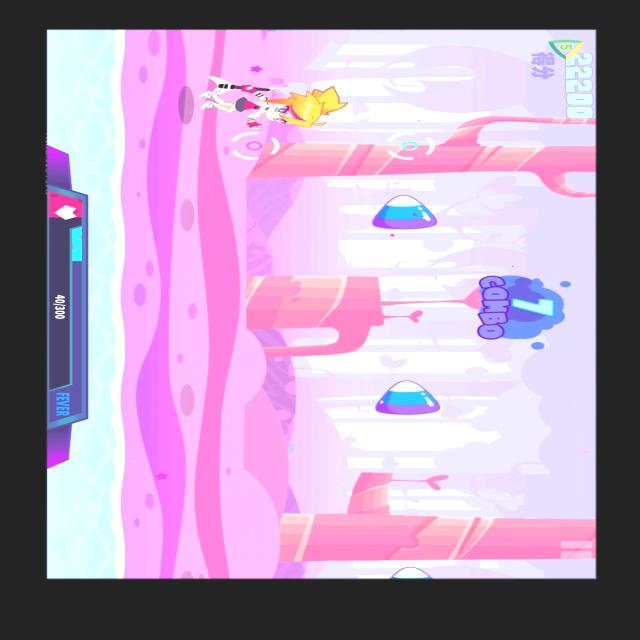jian: (363, 377, 443, 419), (364, 192, 438, 235)
